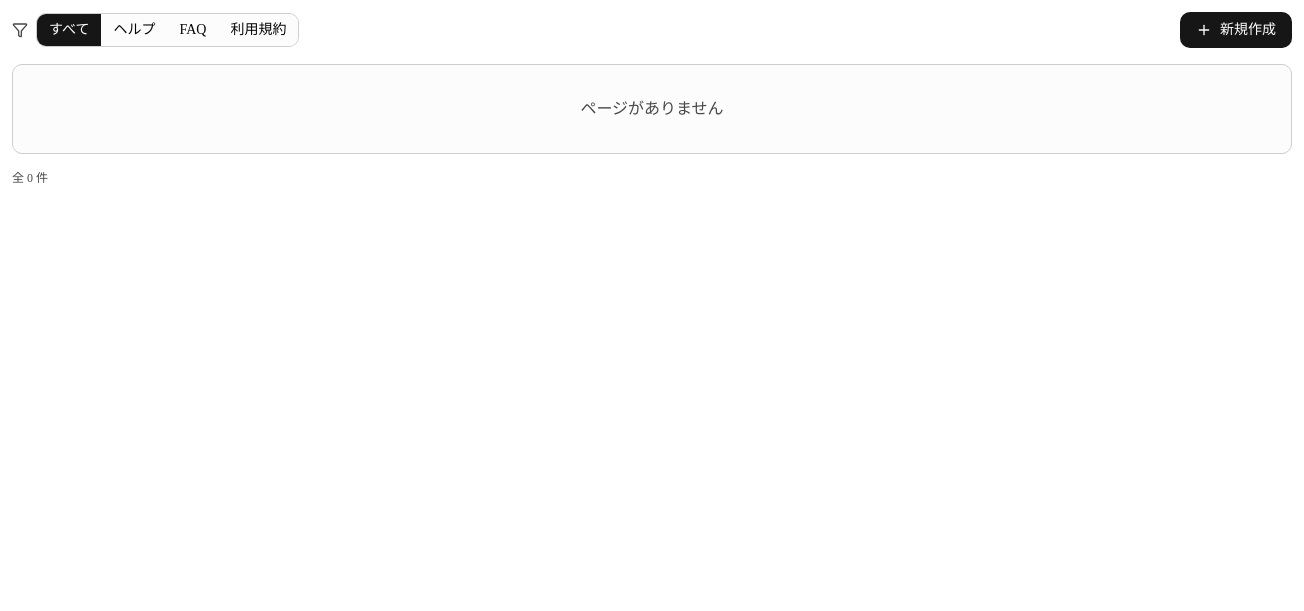
Scenario: CmsPageList › shows create error from action
This screenshot has width=1304, height=611.
Click the button "新規作成" at (1236, 30), box [1180,12,1292,48]
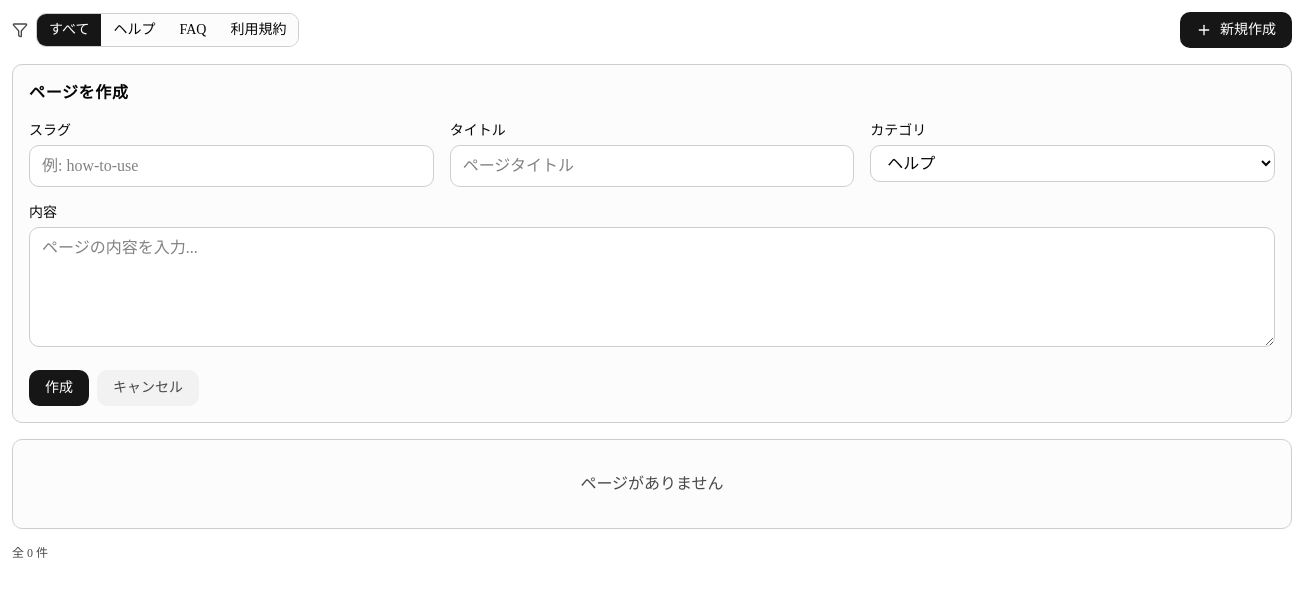
Type "dup" into the field with placeholder "例: how-to-use" at (231, 166), box [29,145,434,187]
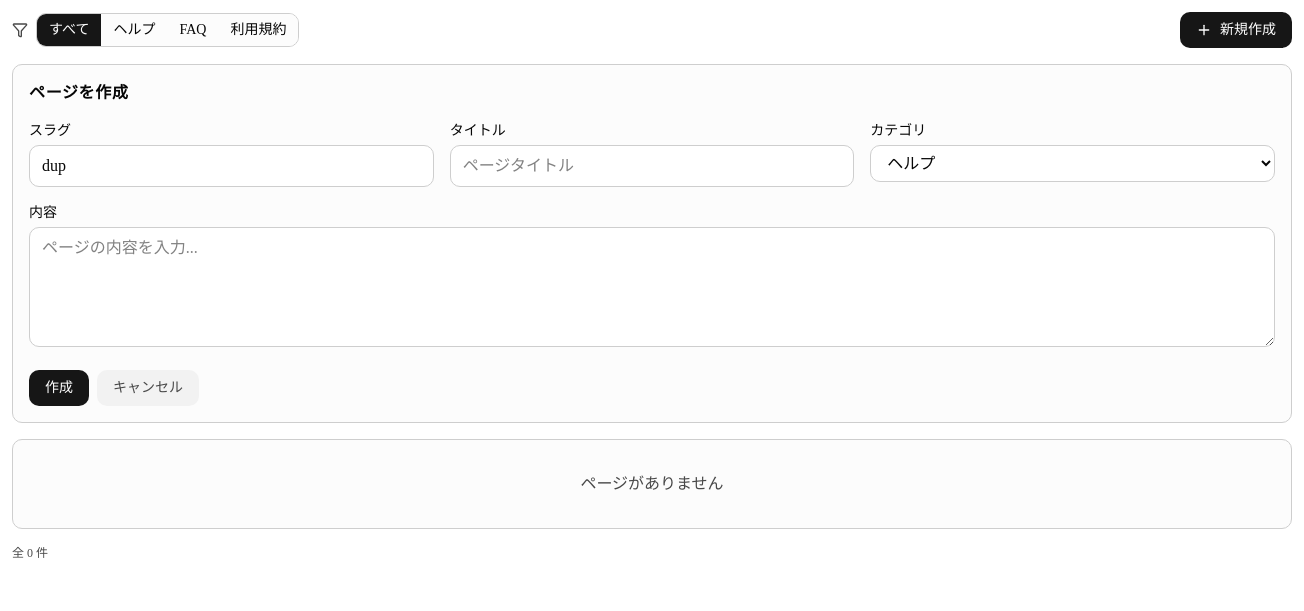
Type "Dup" into the field with placeholder "ページタイトル" at (652, 166), box [450,145,854,187]
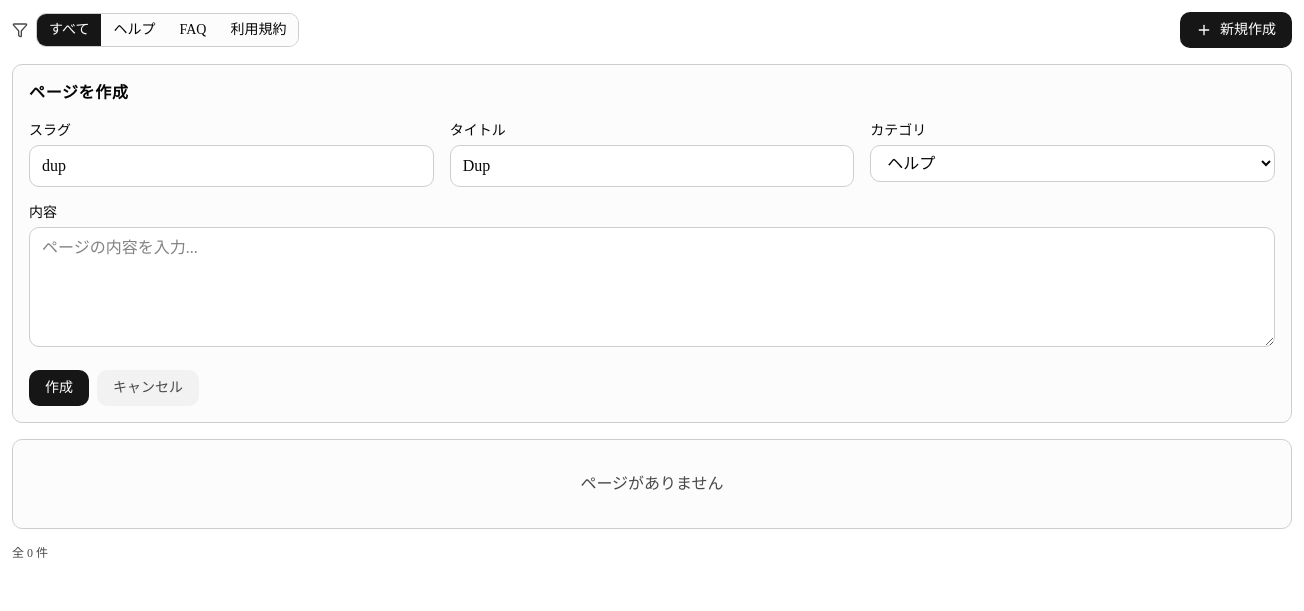
Click the button "作成" at (59, 388), box [29,370,89,406]
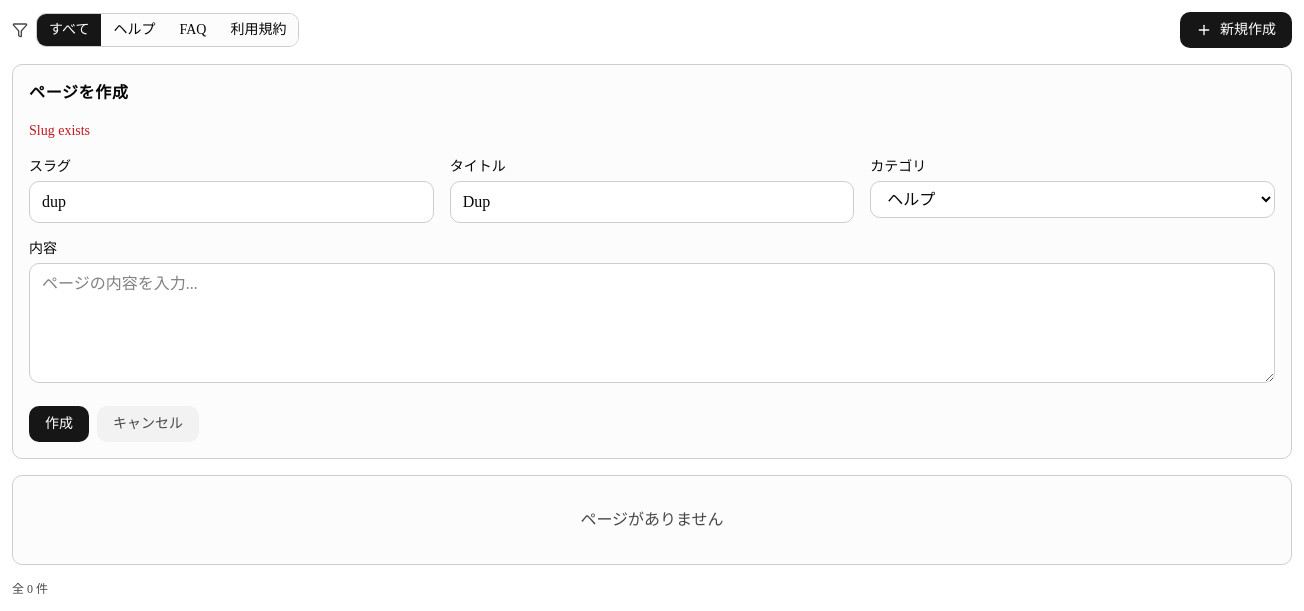
Result: the text "Slug exists" is shown at [29,123,90,138]
